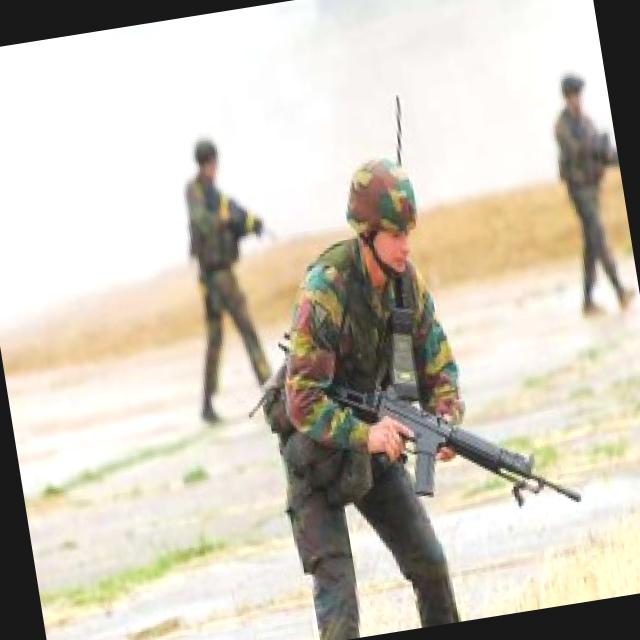long weapon: (334, 342, 592, 545)
